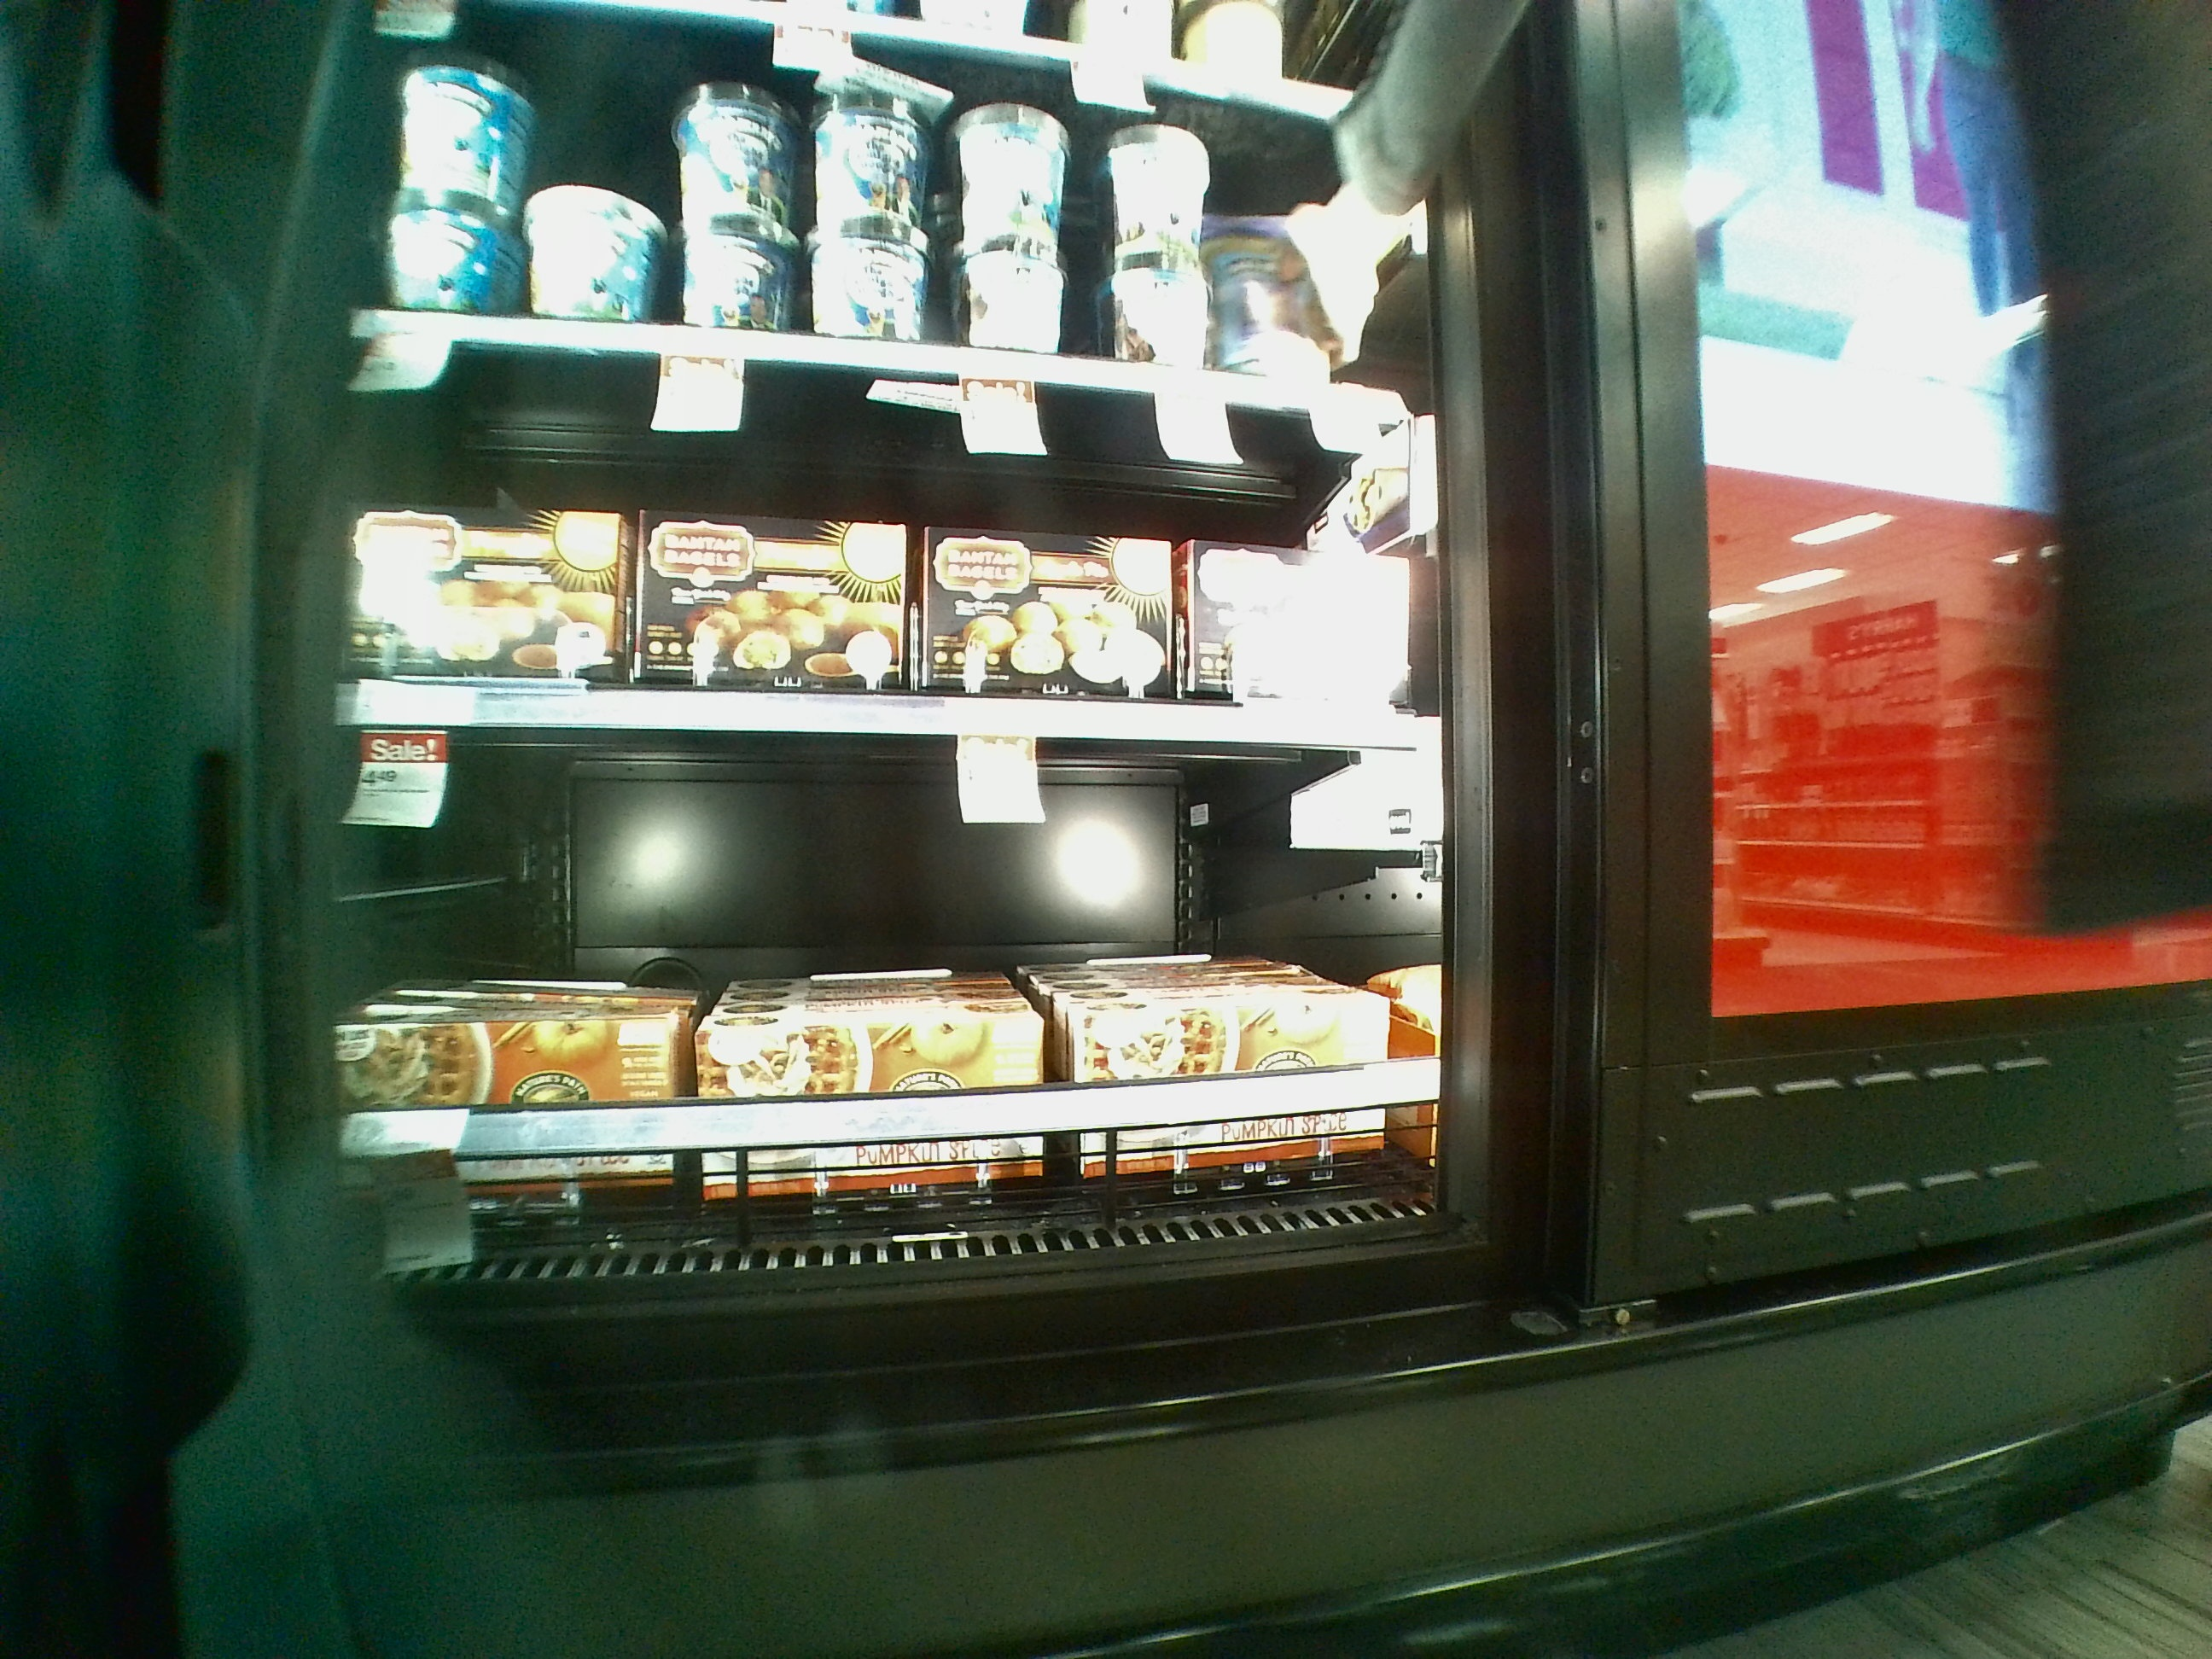shelf: (307, 718, 1433, 1272), (327, 342, 1456, 775)
